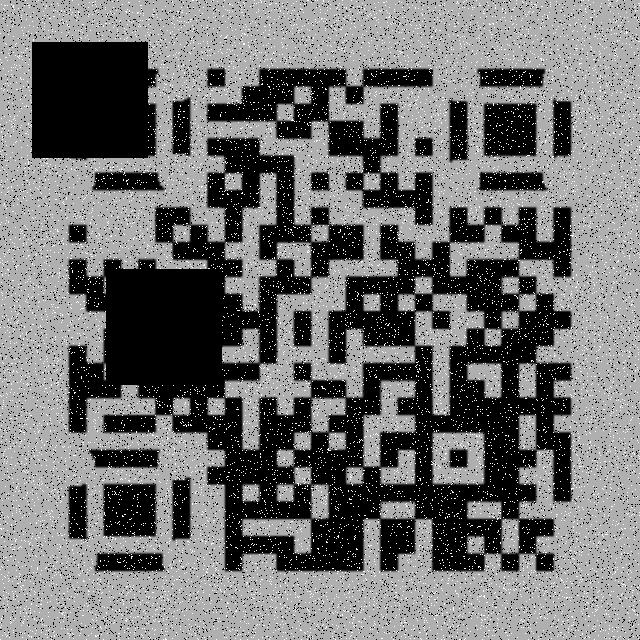QR_CODE: (49, 56, 600, 584)
